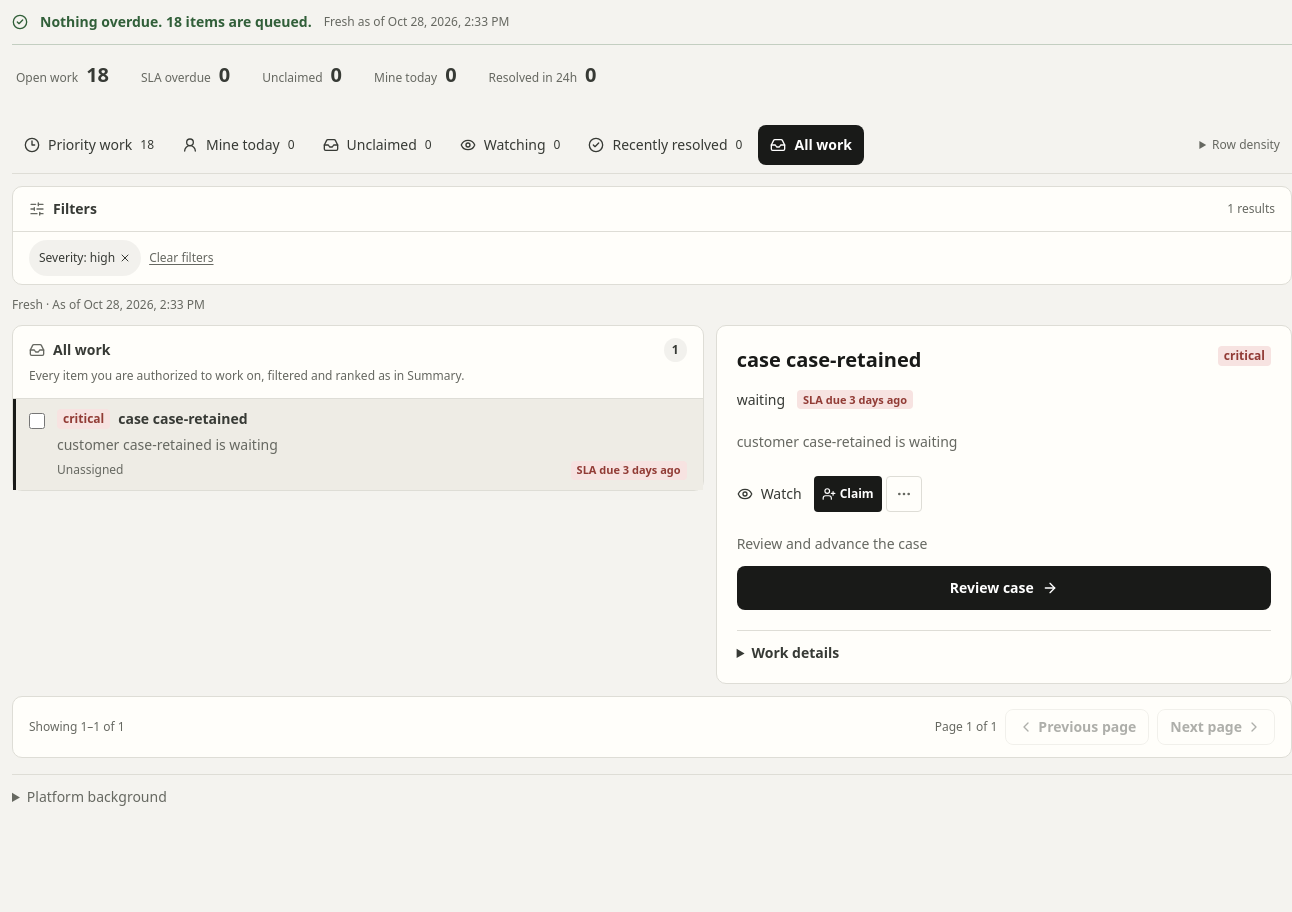
Test: Today operator actions › marks a retained snapshot stale after a failed refresh and fresh after recovery
Click the button "Watch" at x=769, y=494, box top-left (737, 474), bottom-right (802, 514)
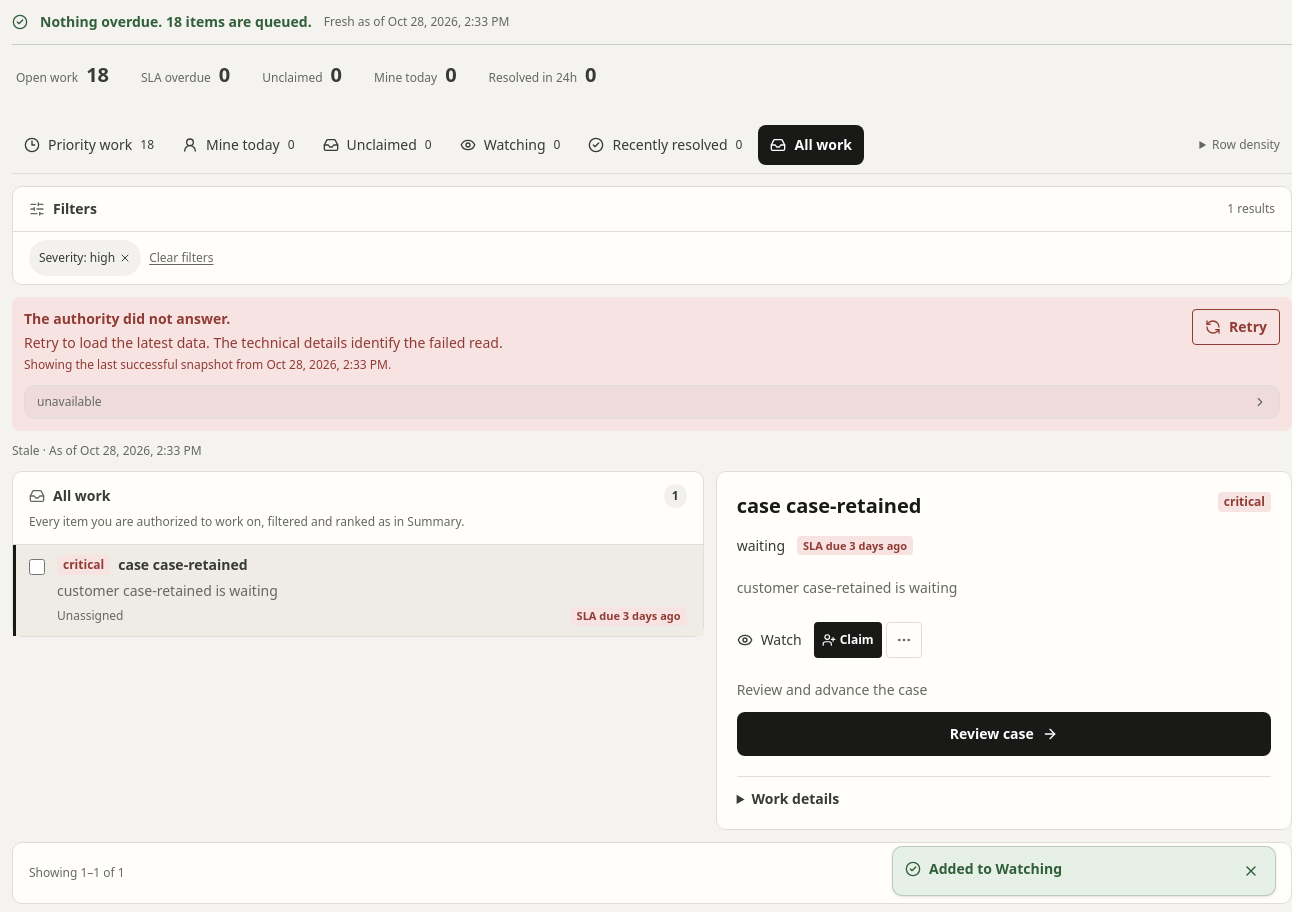
Expected: the text "Fresh" is not shown
Now the message "Stale · As of Oct 28, 2026, 2:33 PM" is shown, box top-left (12, 442), bottom-right (202, 459)
Now the message that starts with "The authority did not answer." shows "last successful snapshot", box top-left (24, 356), bottom-right (263, 373)
Click the button "Retry" at x=1236, y=327, box top-left (1192, 309), bottom-right (1280, 345)
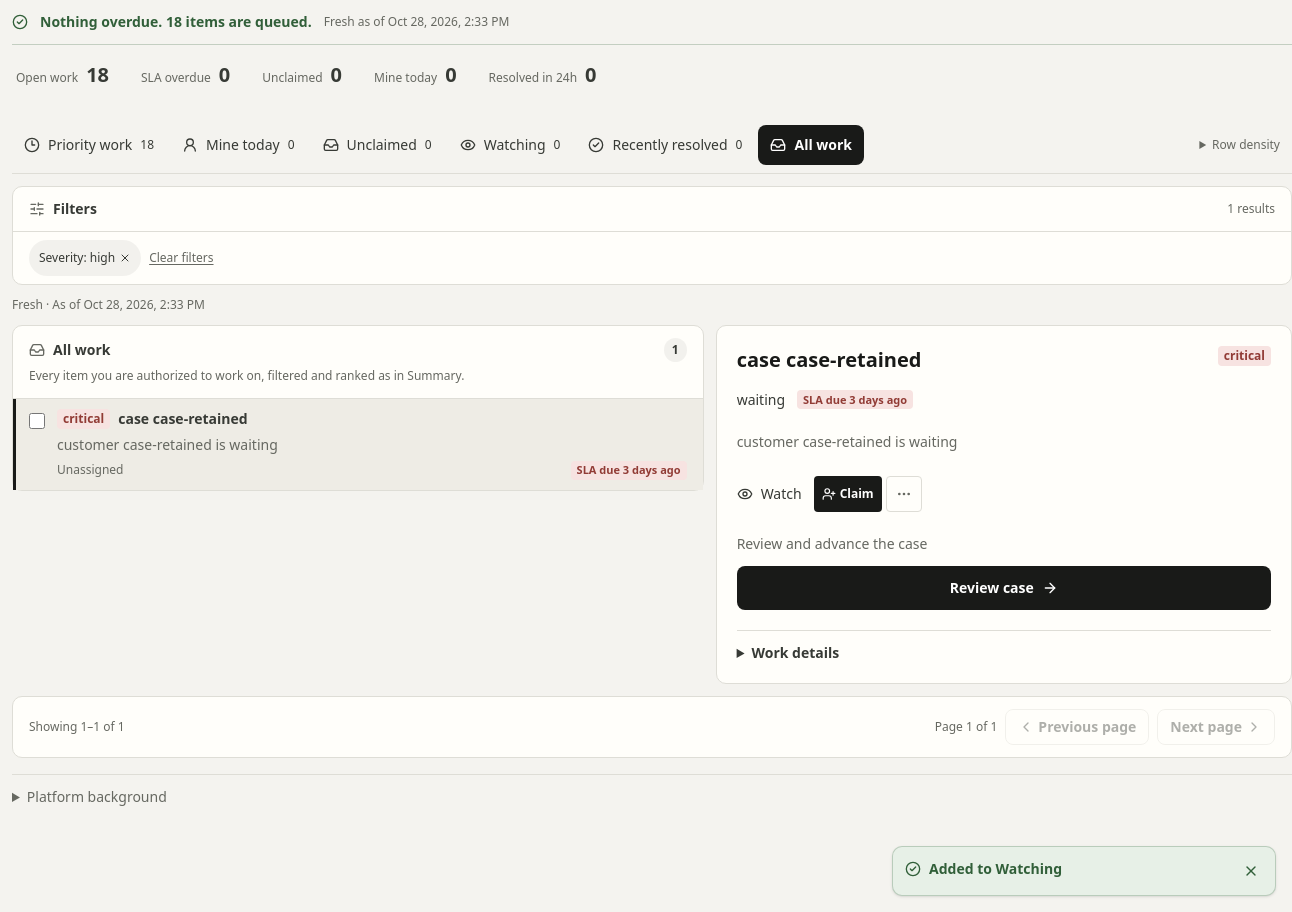
Now the message is gone
Now the message "Fresh · As of Oct 28, 2026, 2:33 PM" is shown, box top-left (12, 296), bottom-right (205, 313)
